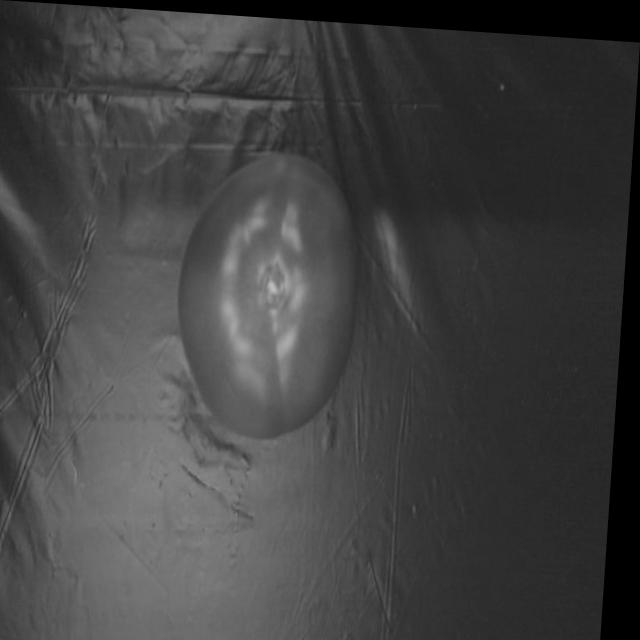kirmizi: (175, 134, 378, 443)
